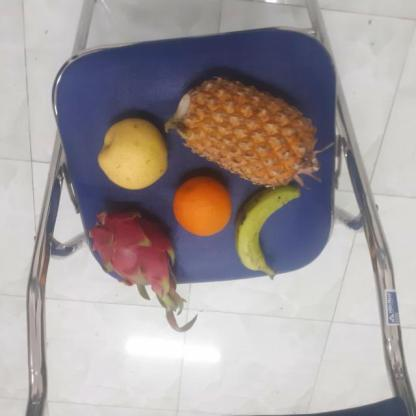banana: (234, 185, 308, 276)
orange: (171, 174, 236, 236)
pear: (97, 116, 171, 192)
pineapple: (172, 74, 324, 187)
pitaya: (90, 206, 182, 290)
